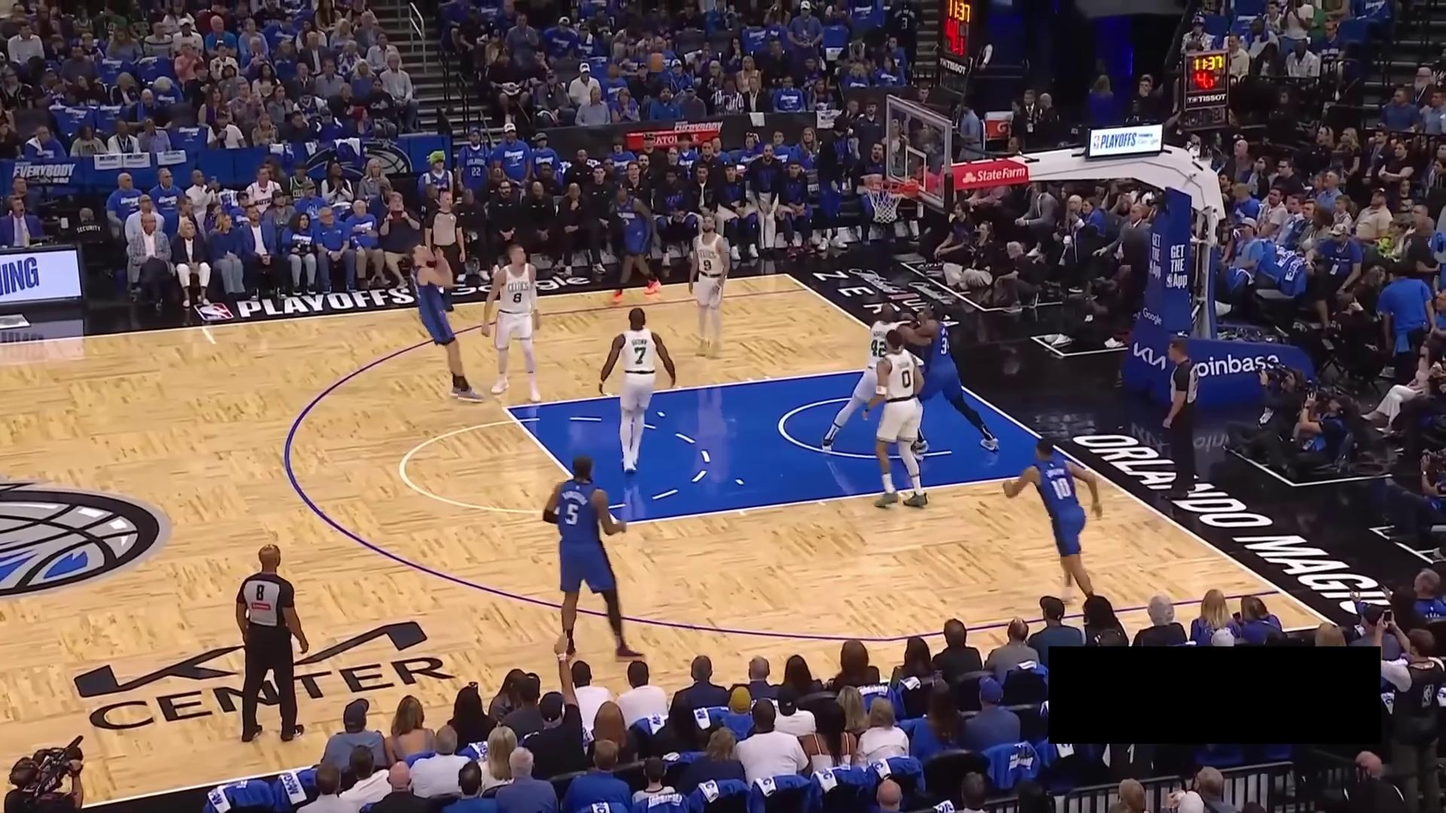ball: (646, 51, 665, 72)
number: (1050, 477, 1072, 500), (869, 339, 886, 358), (633, 346, 647, 365), (566, 503, 578, 525), (901, 369, 911, 388), (939, 336, 949, 355), (512, 291, 523, 305), (702, 258, 712, 272), (624, 217, 630, 227)
player: (542, 453, 647, 662), (1002, 434, 1104, 611), (820, 301, 931, 456), (909, 300, 1002, 458), (597, 306, 676, 473), (406, 240, 485, 404), (862, 328, 928, 509), (480, 244, 543, 404), (610, 180, 662, 304), (687, 213, 731, 358)
referee: (235, 544, 309, 743), (1160, 336, 1203, 500), (422, 188, 468, 313)
rim: (862, 178, 906, 193)
